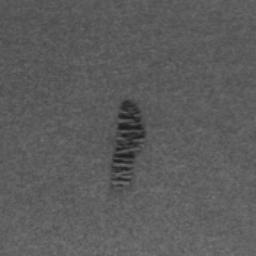Secondary rust skin: (111, 101, 144, 190)
